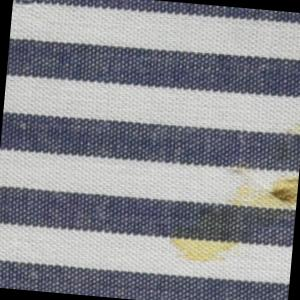Oil Stain: (162, 111, 300, 273)
